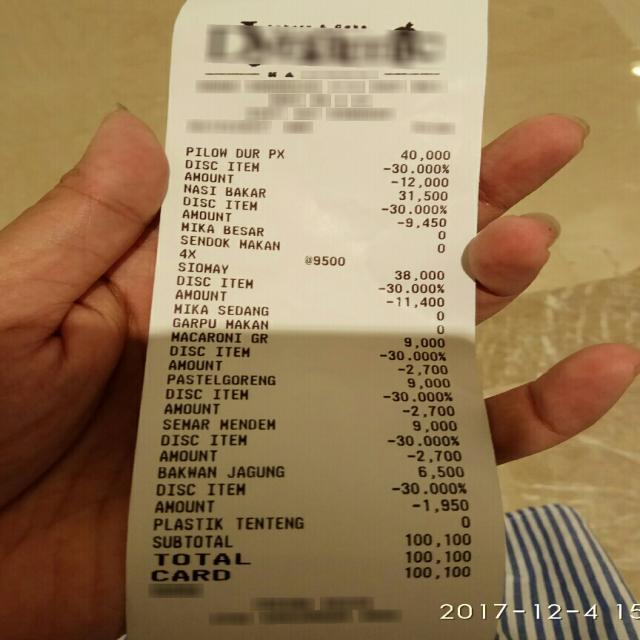kertas: (127, 0, 504, 640)
